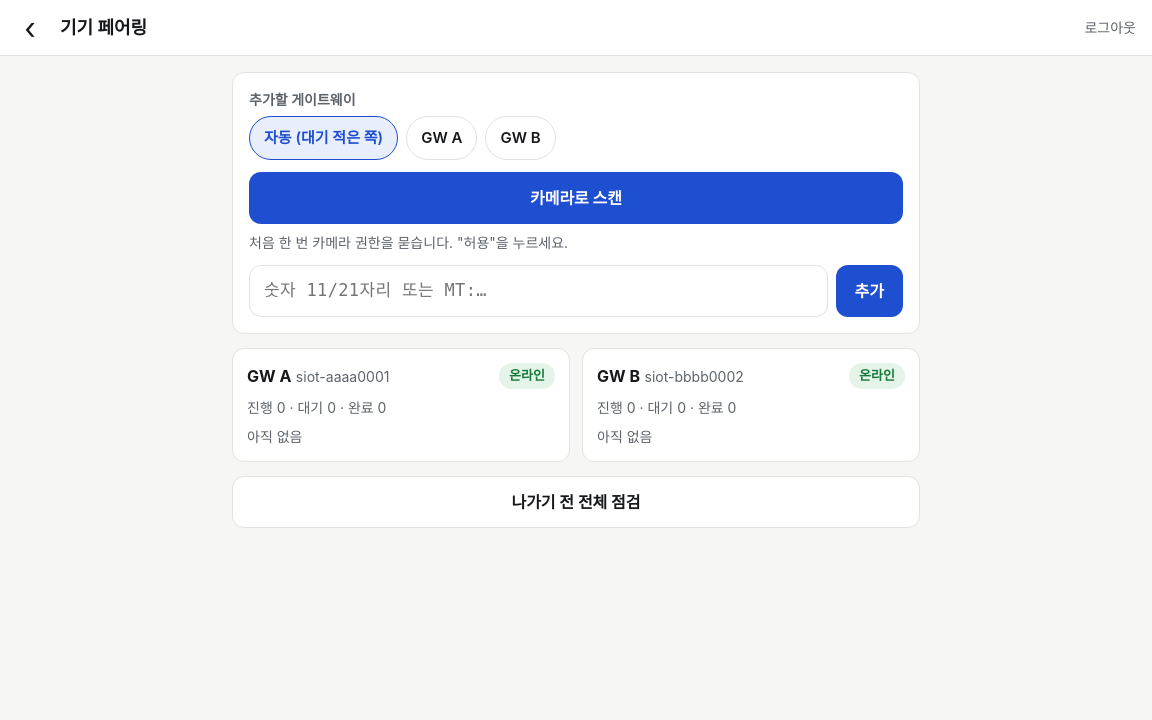
it: 페어링 큐 (GW 별 직렬·GW 끼리 병렬, E2) › 같은 GW 에 넣으면 직렬 대기 순서를 보여준다
Click the radio button labelled "GW A" at (442,138), box [406, 116, 477, 160]
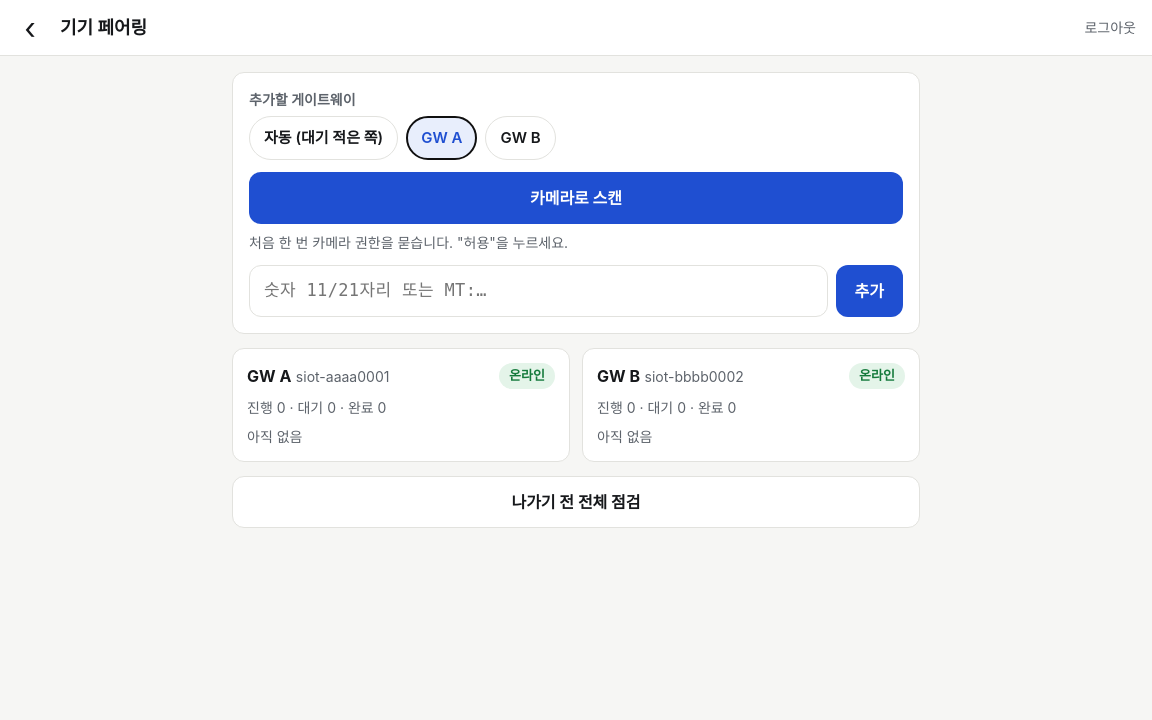
Type "34970112332" into the field named "기기 코드" at (538,291), box [249, 265, 828, 317]
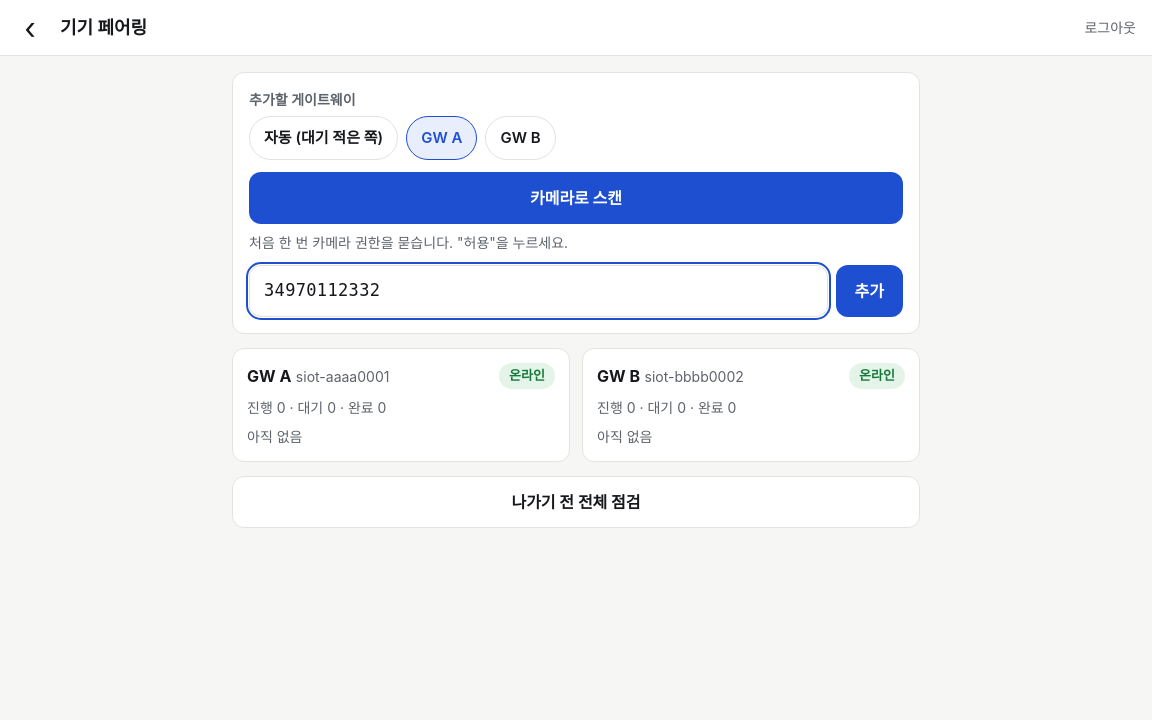
Click the button "추가" at (869,291), box [836, 265, 903, 317]
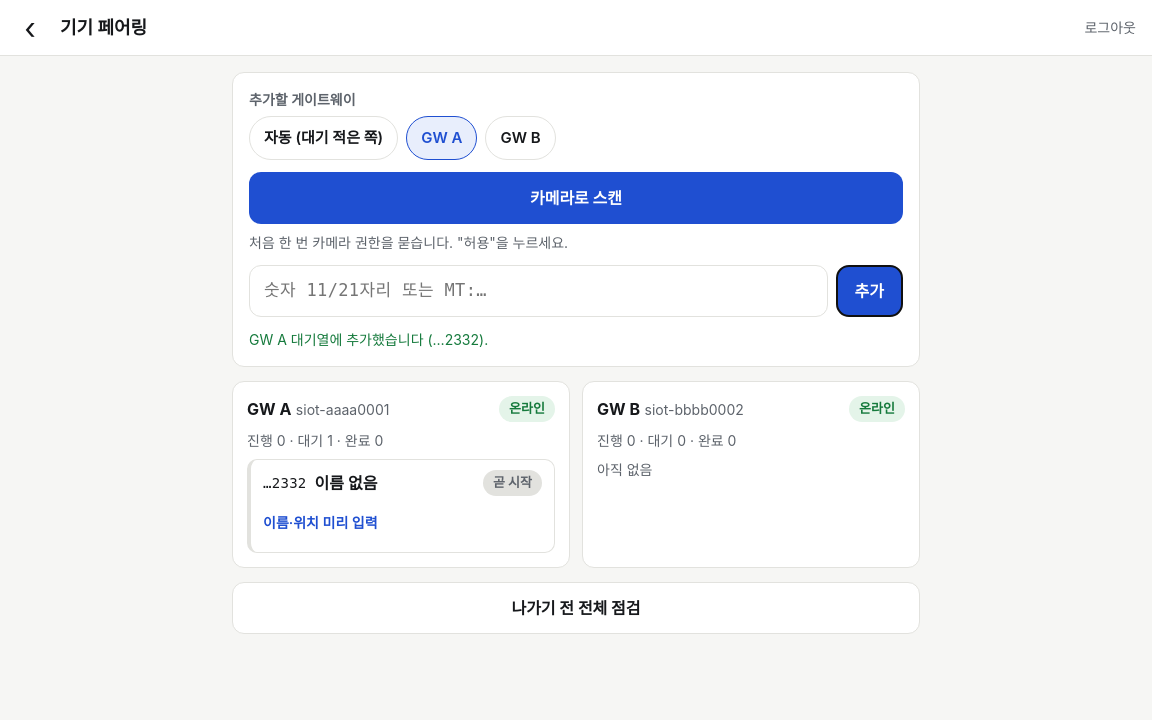
Type "34970112349" into the field named "기기 코드" at (538,291), box [249, 265, 828, 317]
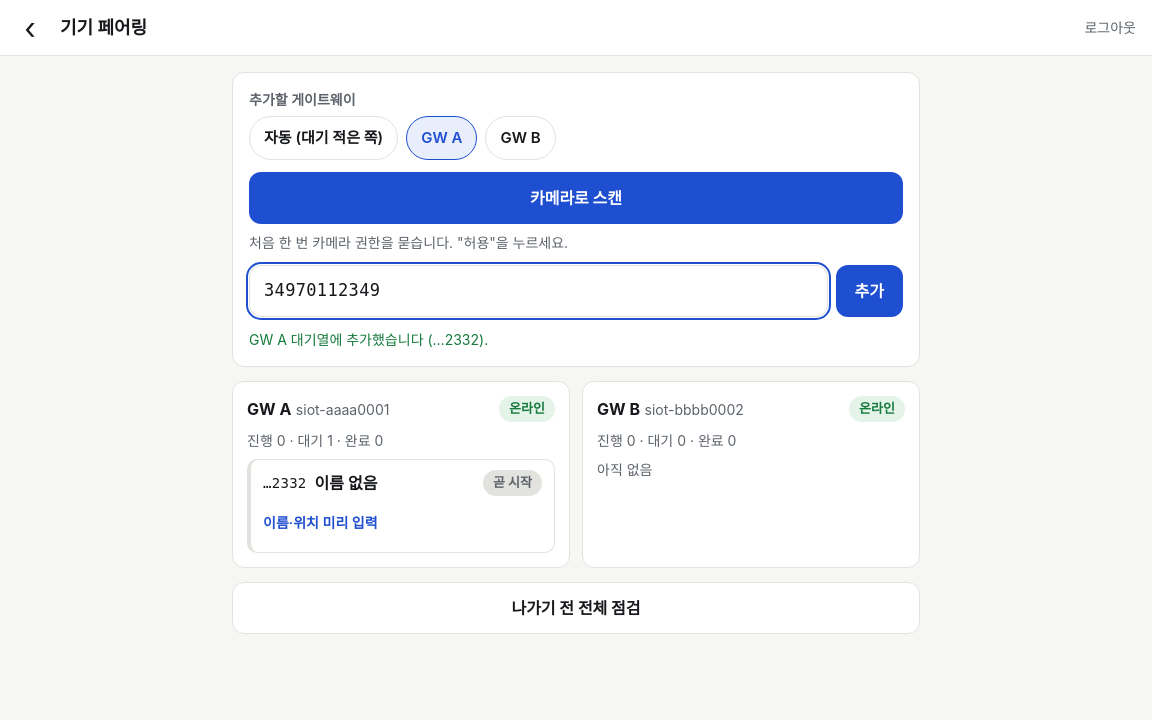
Click the button "추가" at (869,291), box [836, 265, 903, 317]
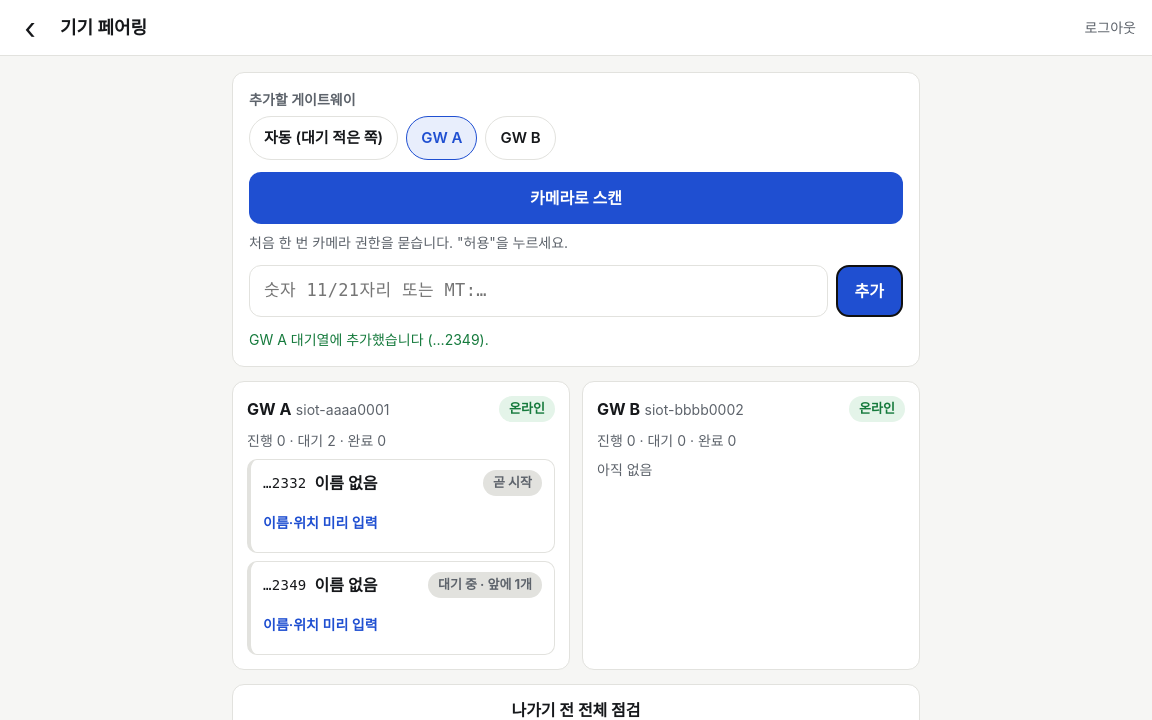
Expected: the text "아직 없음" is shown, [597, 461, 652, 478]
Result: the text "대기 중 · 앞에 1개" is shown at [428, 572, 542, 598]
